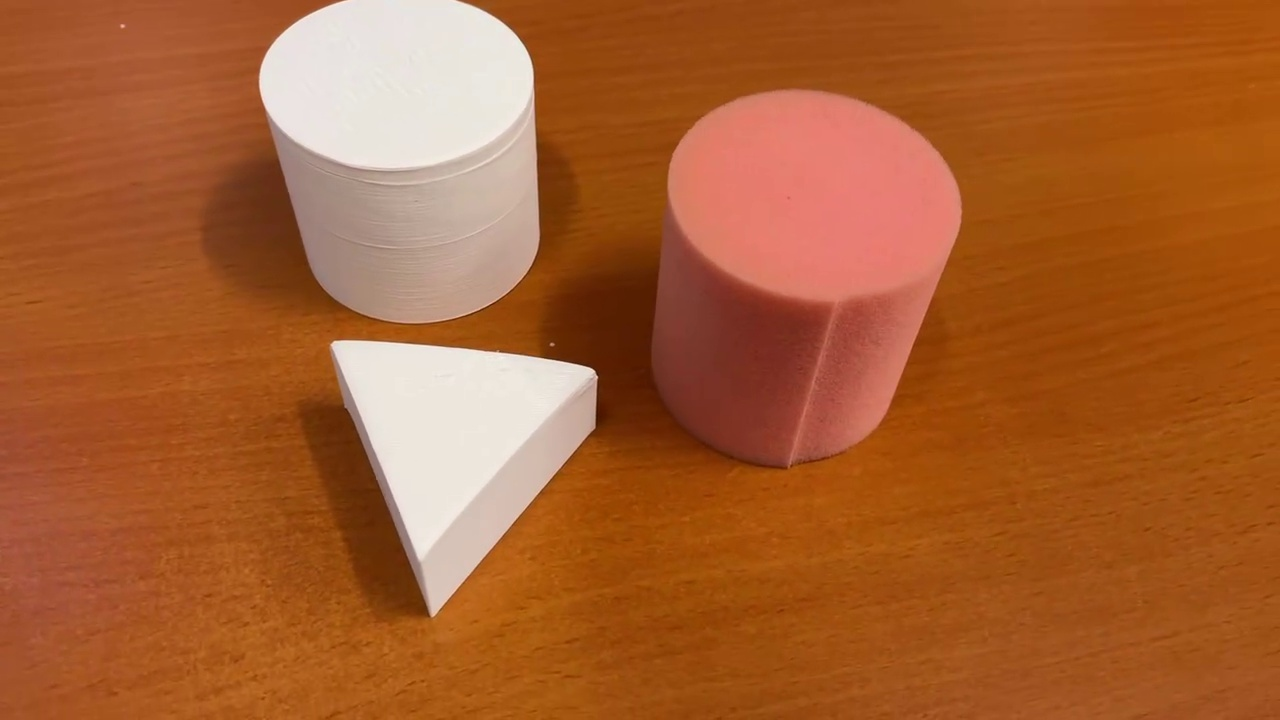Cylinder: (639, 83, 967, 472), (251, 1, 546, 331)
Triangle_short: (321, 330, 607, 627)
